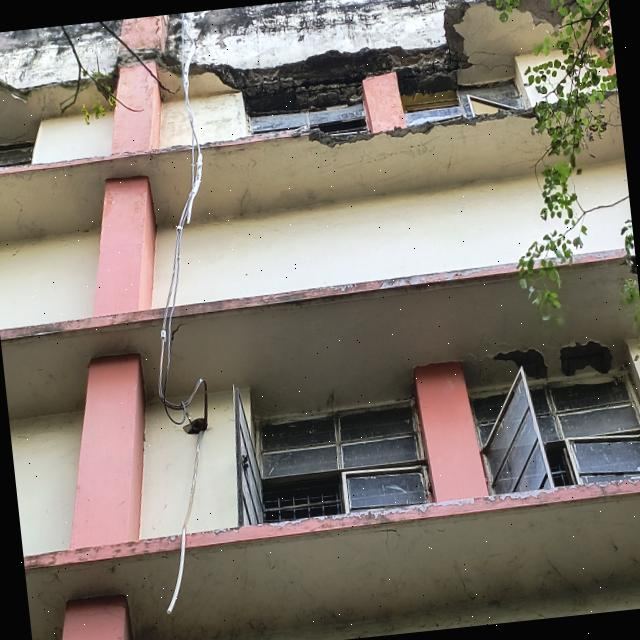spalling: (207, 42, 460, 116)
stain_mould: (196, 0, 458, 68)
